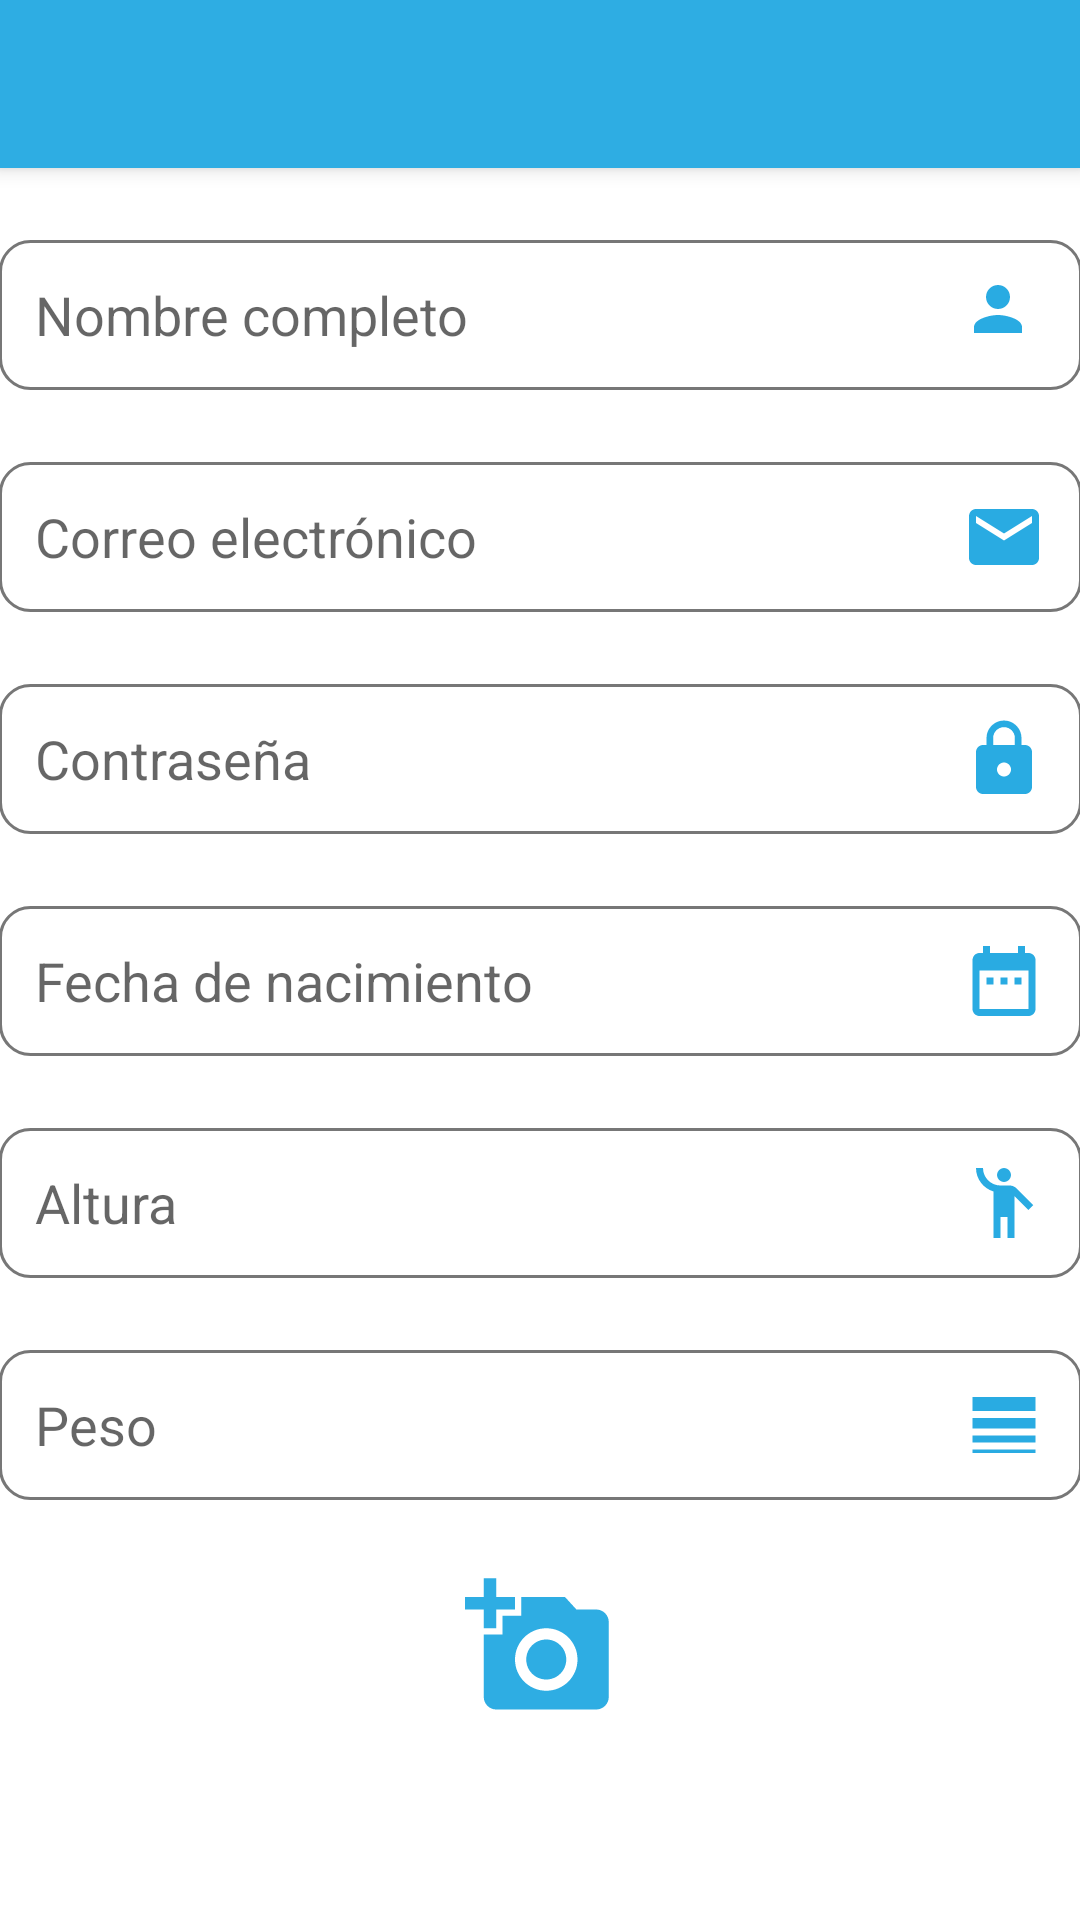

Icons on this 1080x1920 Android screen, each with the point to tap as point (x, y):
add photo: point (537, 1644)
